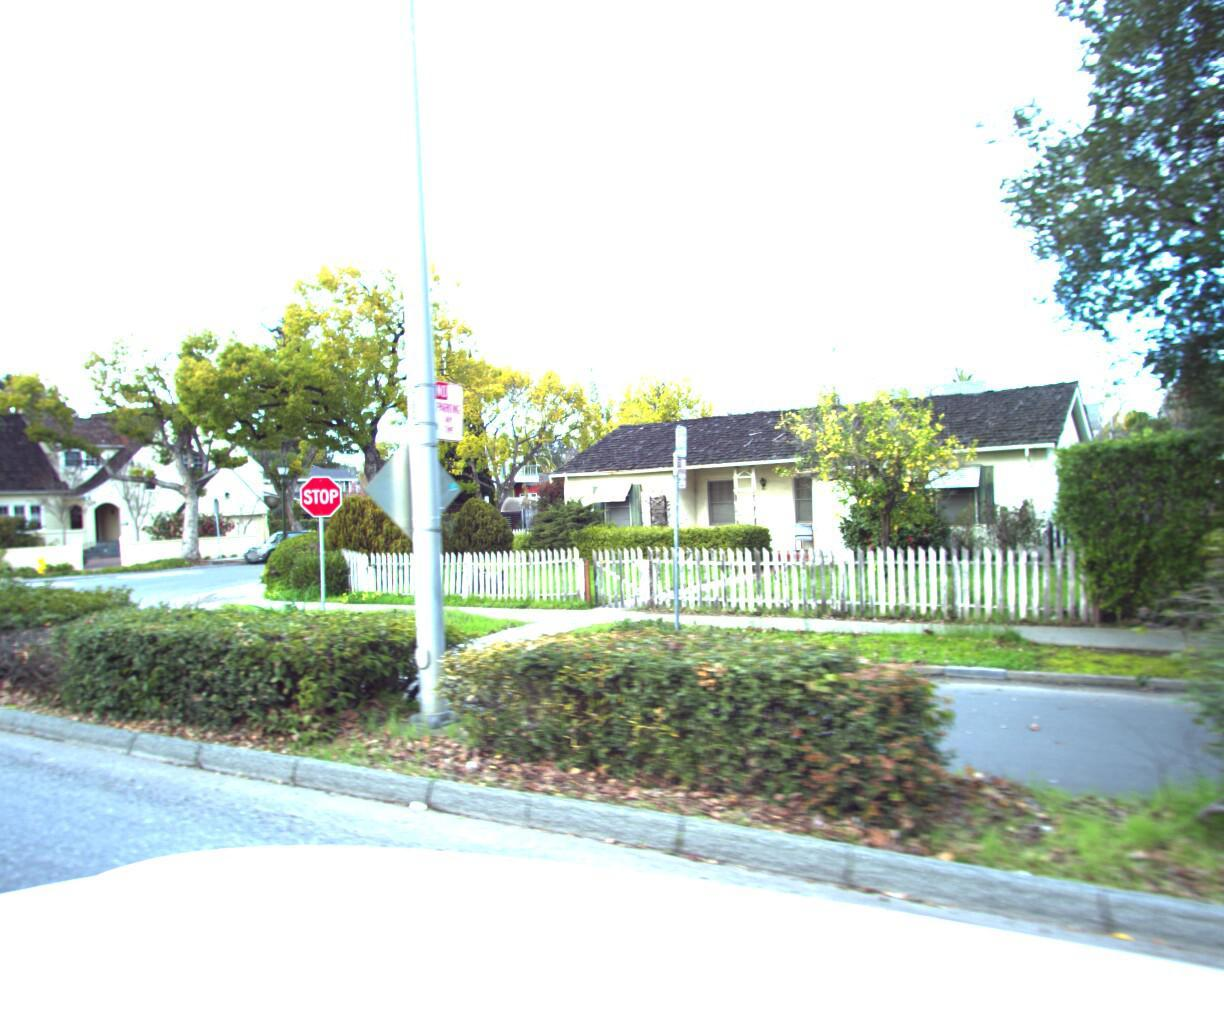car: (230, 522, 331, 560)
